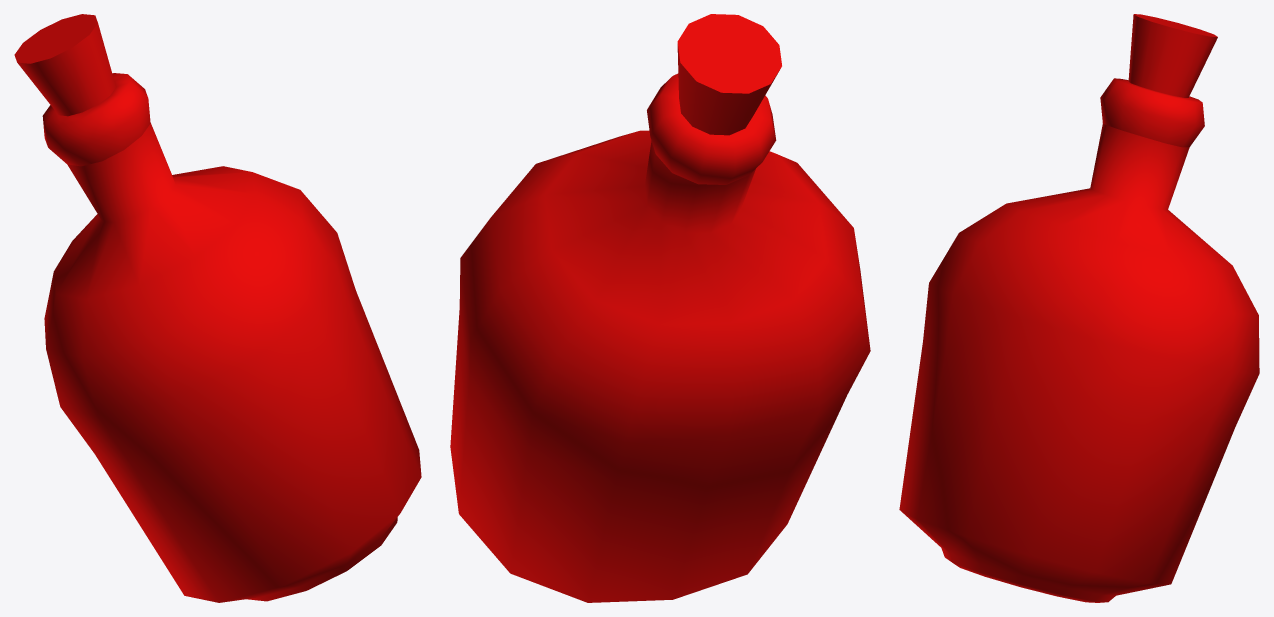
Rendered from Potions_14.fbx.
3 views of the same model, side by side, from view 1: azimuth 30°, elevation 25°; view 2: azimuth 150°, elevation 25°; view 3: azimuth 270°, elevation 25° (orthographic). The views are drawn at different scales.
Parts seen in each view (by area): view 1: Potion_14; view 2: Potion_14; view 3: Potion_14.
Part boxes in pixels (x1,y1,x2,y2): Potion_14: (14,14,421,602); Potion_14: (450,14,870,602); Potion_14: (899,14,1259,602).
Bounding box in the file's own units: 0.3177 × 0.3189 × 0.5088.
